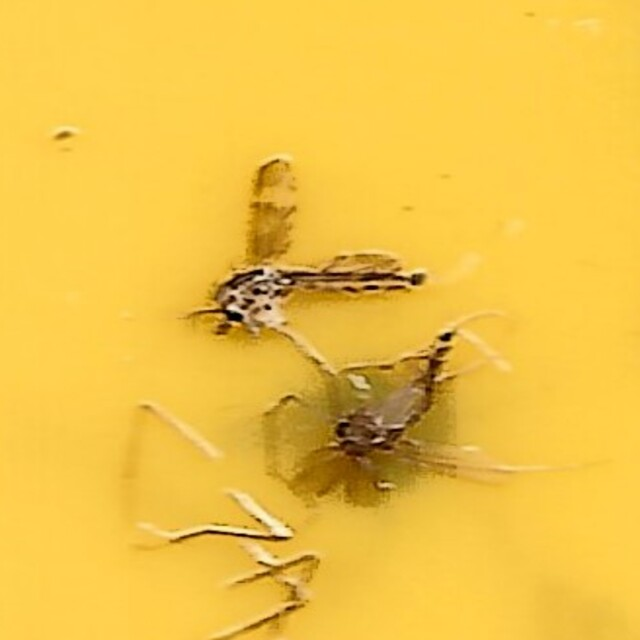Nematocera: (195, 154, 435, 338), (308, 341, 445, 486)
